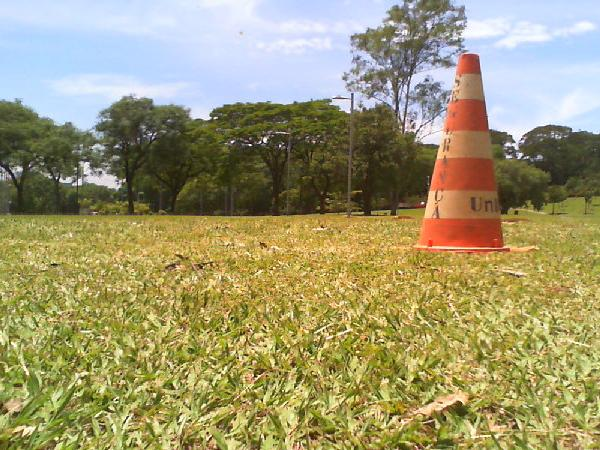0 cone: (414, 52, 511, 252)
